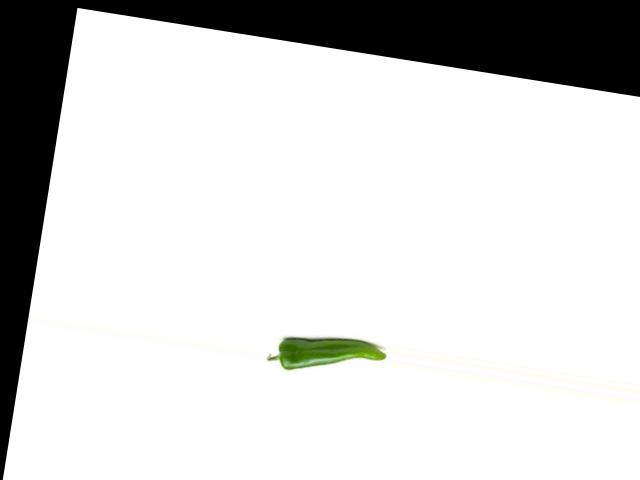bell_pepper: (261, 323, 388, 387)
